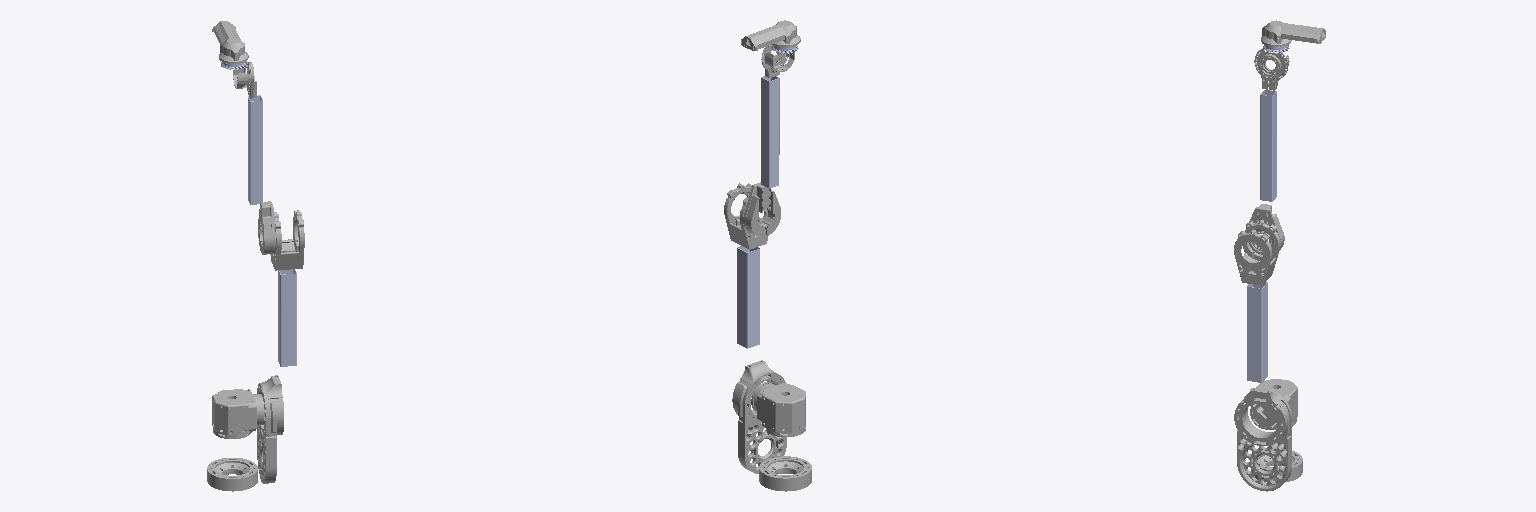
robot.urdf — dexter:
<robot name="dexter">

<link name="kp0093_1" />

<link name="kp0093_1_185_kp0005-01_botbasestatorbracket">
    <visual>
        <geometry>
            <mesh filename="package://dexter/urdf/kp0005-01_botbasestatorbracket.stl" />
        </geometry>
        <material name="kp0093_1_185_kp0005-01_botbasestatorbracket_material">
            <color rgba="0.745098 0.745098 0.745098 1.0" />
        </material>
    </visual>
    <collision>
        <geometry>
            <mesh filename="package://dexter/urdf/kp0005-01_botbasestatorbracket.stl" />
        </geometry>
        <material name="kp0093_1_185_kp0005-01_botbasestatorbracket_material">
            <color rgba="0.745098 0.745098 0.745098 1.0" />
        </material>
    </collision>
</link>

<joint name="kp0093_1_kp0093_1_185_kp0005-01_botbasestatorbracket_fixing" type="fixed">
    <origin xyz="1.03585e-17 -4.1956e-32 0.0557" rpy="1.5708 2.90566e-17 -2.0944" />
    <parent link="kp0093_1" />
    <child link="kp0093_1_185_kp0005-01_botbasestatorbracket" />
</joint>


<link name="kp0093_1_24_kp0006-01_baselite">
    <visual>
        <geometry>
            <mesh filename="package://dexter/urdf/kp0006-01_baselite.stl" />
        </geometry>
        <material name="kp0093_1_24_kp0006-01_baselite_material">
            <color rgba="0.745098 0.745098 0.745098 1.0" />
        </material>
    </visual>
    <collision>
        <geometry>
            <mesh filename="package://dexter/urdf/kp0006-01_baselite.stl" />
        </geometry>
        <material name="kp0093_1_24_kp0006-01_baselite_material">
            <color rgba="0.745098 0.745098 0.745098 1.0" />
        </material>
    </collision>
</link>

<joint name="kp0093_1_kp0093_1_24_kp0006-01_baselite_fixing" type="fixed">
    <origin xyz="0.0 0.0 0.0" rpy="0.0 1.047 -3.142" />
    <parent link="kp0093_1_185_kp0005-01_botbasestatorbracket" />
    <child link="kp0093_1_24_kp0006-01_baselite" />
</joint>


<link name="kp0093_1_33_kp0021-01_motorendcappivot">
    <visual>
        <geometry>
            <mesh filename="package://dexter/urdf/kp0021-01_motorendcappivot.stl" />
        </geometry>
        <material name="kp0093_1_33_kp0021-01_motorendcappivot_material">
            <color rgba="0.745098 0.745098 0.745098 1.0" />
        </material>
    </visual>
    <collision>
        <geometry>
            <mesh filename="package://dexter/urdf/kp0021-01_motorendcappivot.stl" />
        </geometry>
        <material name="kp0093_1_33_kp0021-01_motorendcappivot_material">
            <color rgba="0.745098 0.745098 0.745098 1.0" />
        </material>
    </collision>
</link>

<joint name="kp0093_1_kp0093_1_33_kp0021-01_motorendcappivot_fixing" type="fixed">
    <origin xyz="0.0 -0.059 0.0" rpy="0.0 0.350 0.0" />
    <parent link="kp0093_1_24_kp0006-01_baselite" />
    <child link="kp0093_1_33_kp0021-01_motorendcappivot" />
</joint>


<link name="kp0093_1_183_kp0013-01_mainpivotv2">
    <visual>
        <geometry>
            <mesh filename="package://dexter/urdf/kp0013-01_mainpivotv2.stl" />
        </geometry>
        <material name="kp0093_1_183_kp0013-01_mainpivotv2_material">
            <color rgba="0.745098 0.745098 0.745098 1.0" />
        </material>
    </visual>
    <collision>
        <geometry>
            <mesh filename="package://dexter/urdf/kp0013-01_mainpivotv2.stl" />
        </geometry>
        <material name="kp0093_1_183_kp0013-01_mainpivotv2_material">
            <color rgba="0.745098 0.745098 0.745098 1.0" />
        </material>
    </collision>
</link>

<joint name="J1" type="revolute">
    <origin xyz="0.0 -0.008 0.0" rpy="0.0 0.0 0.0" />
    <parent link="kp0093_1_33_kp0021-01_motorendcappivot" />
    <child link="kp0093_1_183_kp0013-01_mainpivotv2" />
    <limit lower="-1.571" upper="1.571" effort="100" velocity="100" />
    <axis xyz="0 1 0" />
</joint>


<link name="kp0093_1_230_kp0028-01_armbodybottom">
    <visual>
        <geometry>
            <mesh filename="package://dexter/urdf/kp0028-01_armbodybottom.stl" />
        </geometry>
        <material name="kp0093_1_230_kp0028-01_armbodybottom_material">
            <color rgba="0.745098 0.745098 0.745098 1.0" />
        </material>
    </visual>
    <collision>
        <geometry>
            <mesh filename="package://dexter/urdf/kp0028-01_armbodybottom.stl" />
        </geometry>
        <material name="kp0093_1_230_kp0028-01_armbodybottom_material">
            <color rgba="0.745098 0.745098 0.745098 1.0" />
        </material>
    </collision>
</link>

<joint name="J2" type="revolute">
    <origin xyz="0.057 -0.037 0.0" rpy="0.0 0.0 1.571" />
    <parent link="kp0093_1_183_kp0013-01_mainpivotv2" />
    <child link="kp0093_1_230_kp0028-01_armbodybottom" />
    <limit lower="-2.355" upper="2.355" effort="100" velocity="100" />
    <axis xyz="0 1 0" />
</joint>


<link name="kp0093_1_301_kp0053-01_compositebarshoulder">
    <visual>
        <geometry>
            <mesh filename="package://dexter/urdf/kp0053-01_compositebarshoulder.stl" />
        </geometry>
        <material name="kp0093_1_301_kp0053-01_compositebarshoulder_material">
            <color rgba="0.792157 0.819608 0.933333 1.0" />
        </material>
    </visual>
    <collision>
        <geometry>
            <mesh filename="package://dexter/urdf/kp0053-01_compositebarshoulder.stl" />
        </geometry>
        <material name="kp0093_1_301_kp0053-01_compositebarshoulder_material">
            <color rgba="0.792157 0.819608 0.933333 1.0" />
        </material>
    </collision>
</link>

<joint name="kp0093_1_kp0093_1_301_kp0053-01_compositebarshoulder_fixing" type="fixed">
    <origin xyz="-0.168 -0.036 0.0" rpy="0.0 0.0 -3.142" />
    <parent link="kp0093_1_230_kp0028-01_armbodybottom" />
    <child link="kp0093_1_301_kp0053-01_compositebarshoulder" />
</joint>


<link name="kp0093_1_48_kp0048-01_axisintersectionhalfsm_b">
    <visual>
        <geometry>
            <mesh filename="package://dexter/urdf/kp0048-01_axisintersectionhalfsm_b.stl" />
        </geometry>
        <material name="kp0093_1_48_kp0048-01_axisintersectionhalfsm_b_material">
            <color rgba="0.745098 0.745098 0.745098 1.0" />
        </material>
    </visual>
    <collision>
        <geometry>
            <mesh filename="package://dexter/urdf/kp0048-01_axisintersectionhalfsm_b.stl" />
        </geometry>
        <material name="kp0093_1_48_kp0048-01_axisintersectionhalfsm_b_material">
            <color rgba="0.745098 0.745098 0.745098 1.0" />
        </material>
    </collision>
</link>

<joint name="kp0093_1_kp0093_1_48_kp0048-01_axisintersectionhalfsm_b_fixing" type="fixed">
    <origin xyz="0.153 0.022 0.0" rpy="0.0 0.0 0.0" />
    <parent link="kp0093_1_301_kp0053-01_compositebarshoulder" />
    <child link="kp0093_1_48_kp0048-01_axisintersectionhalfsm_b" />
</joint>


<link name="kp0093_1_165_kp0047-01_axisintersectionhalfsm">
    <visual>
        <geometry>
            <mesh filename="package://dexter/urdf/kp0047-01_axisintersectionhalfsm.stl" />
        </geometry>
        <material name="kp0093_1_165_kp0047-01_axisintersectionhalfsm_material">
            <color rgba="0.745098 0.745098 0.745098 1.0" />
        </material>
    </visual>
    <collision>
        <geometry>
            <mesh filename="package://dexter/urdf/kp0047-01_axisintersectionhalfsm.stl" />
        </geometry>
        <material name="kp0093_1_165_kp0047-01_axisintersectionhalfsm_material">
            <color rgba="0.745098 0.745098 0.745098 1.0" />
        </material>
    </collision>
</link>

<joint name="kp0093_1_kp0093_1_165_kp0047-01_axisintersectionhalfsm_fixing" type="fixed">
    <origin xyz="0.0 0.0 0.0" rpy="0.0 0.0 0.0" />
    <parent link="kp0093_1_48_kp0048-01_axisintersectionhalfsm_b" />
    <child link="kp0093_1_165_kp0047-01_axisintersectionhalfsm" />
</joint>


<link name="kp0093_1_237_kp0066-01_endarmhubbottom">
    <visual>
        <geometry>
            <mesh filename="package://dexter/urdf/kp0066-01_endarmhubbottom.stl" />
        </geometry>
        <material name="kp0093_1_237_kp0066-01_endarmhubbottom_material">
            <color rgba="0.745098 0.745098 0.745098 1.0" />
        </material>
    </visual>
    <collision>
        <geometry>
            <mesh filename="package://dexter/urdf/kp0066-01_endarmhubbottom.stl" />
        </geometry>
        <material name="kp0093_1_237_kp0066-01_endarmhubbottom_material">
            <color rgba="0.745098 0.745098 0.745098 1.0" />
        </material>
    </collision>
</link>

<joint name="J3" type="revolute">
    <origin xyz="0.0 -0.051 0.0" rpy="0.0 3.142 -3.142" />
    <parent link="kp0093_1_48_kp0048-01_axisintersectionhalfsm_b" />
    <child link="kp0093_1_237_kp0066-01_endarmhubbottom" />
    <limit lower="-2.355" upper="2.355" effort="100" velocity="100" />
    <axis xyz="0 1 0" />
</joint>


<link name="kp0093_1_135_kp0069-01_forarmbeam">
    <visual>
        <geometry>
            <mesh filename="package://dexter/urdf/kp0069-01_forarmbeam.stl" />
        </geometry>
        <material name="kp0093_1_135_kp0069-01_forarmbeam_material">
            <color rgba="0.792157 0.819608 0.933333 1.0" />
        </material>
    </visual>
    <collision>
        <geometry>
            <mesh filename="package://dexter/urdf/kp0069-01_forarmbeam.stl" />
        </geometry>
        <material name="kp0093_1_135_kp0069-01_forarmbeam_material">
            <color rgba="0.792157 0.819608 0.933333 1.0" />
        </material>
    </collision>
</link>

<joint name="kp0093_1_kp0093_1_135_kp0069-01_forarmbeam_fixing" type="fixed">
    <origin xyz="0.159 0.025 0.0" rpy="0 0 0" />
    <parent link="kp0093_1_237_kp0066-01_endarmhubbottom" />
    <child link="kp0093_1_135_kp0069-01_forarmbeam" />
</joint>


<link name="kp0093_1_2_kp0070-01_endaxishubc">
    <visual>
        <geometry>
            <mesh filename="package://dexter/urdf/kp0070-01_endaxishubc.stl" />
        </geometry>
        <material name="kp0093_1_2_kp0070-01_endaxishubc_material">
            <color rgba="0.745098 0.745098 0.745098 1.0" />
        </material>
    </visual>
    <collision>
        <geometry>
            <mesh filename="package://dexter/urdf/kp0070-01_endaxishubc.stl" />
        </geometry>
        <material name="kp0093_1_2_kp0070-01_endaxishubc_material">
            <color rgba="0.745098 0.745098 0.745098 1.0" />
        </material>
    </collision>
</link>

<joint name="kp0093_1_kp0093_1_2_kp0070-01_endaxishubc_fixing" type="fixed">
    <origin xyz="0.142 -0.011 0.0" rpy="-3.142 0.0 0.0" />
    <parent link="kp0093_1_135_kp0069-01_forarmbeam" />
    <child link="kp0093_1_2_kp0070-01_endaxishubc" />
</joint>


<link name="kp0093_1_322_kp0079-01_diffa2codediskendstopfilled">
    <visual>
        <geometry>
            <mesh filename="package://dexter/urdf/kp0079-01_diffa2codediskendstopfilled.stl" />
        </geometry>
        <material name="kp0093_1_322_kp0079-01_diffa2codediskendstopfilled_material">
            <color rgba="0.74902 0.74902 0.74902 1.0" />
        </material>
    </visual>
    <collision>
        <geometry>
            <mesh filename="package://dexter/urdf/kp0079-01_diffa2codediskendstopfilled.stl" />
        </geometry>
        <material name="kp0093_1_322_kp0079-01_diffa2codediskendstopfilled_material">
            <color rgba="0.74902 0.74902 0.74902 1.0" />
        </material>
    </collision>
</link>

<joint name="J4" type="revolute">
    <origin xyz="0.0 -0.024 0.0" rpy="0.0 0.0 0.0" />
    <parent link="kp0093_1_2_kp0070-01_endaxishubc" />
    <child link="kp0093_1_322_kp0079-01_diffa2codediskendstopfilled" />
    <limit lower="-1.571" upper="1.571" effort="100" velocity="100" />
    <axis xyz="0 -1 0" />
</joint>


<link name="kp0093_1_12_kp0077-01_diffbodysmallb">
    <visual>
        <geometry>
            <mesh filename="package://dexter/urdf/kp0077-01_diffbodysmallb.stl" />
        </geometry>
        <material name="kp0093_1_12_kp0077-01_diffbodysmallb_material">
            <color rgba="0.745098 0.745098 0.745098 1.0" />
        </material>
    </visual>
    <collision>
        <geometry>
            <mesh filename="package://dexter/urdf/kp0077-01_diffbodysmallb.stl" />
        </geometry>
        <material name="kp0093_1_12_kp0077-01_diffbodysmallb_material">
            <color rgba="0.745098 0.745098 0.745098 1.0" />
        </material>
    </collision>
</link>

<joint name="kp0093_1_kp0093_1_12_kp0077-01_diffbodysmallb_fixing" type="fixed">
    <origin xyz="-0.021 -0.003 -0.021" rpy="-3.142 0.0 -1.571" />
    <parent link="kp0093_1_322_kp0079-01_diffa2codediskendstopfilled" />
    <child link="kp0093_1_12_kp0077-01_diffbodysmallb" />
</joint>


<link name="kp0093_1_87_kp0086-01_outterfrontdifferentialgear">
    <visual>
        <geometry>
            <mesh filename="package://dexter/urdf/kp0086-01_outterfrontdifferentialgear.stl" />
        </geometry>
        <material name="kp0093_1_87_kp0086-01_outterfrontdifferentialgear_material">
            <color rgba="0.792157 0.819608 0.933333 1.0" />
        </material>
    </visual>
    <collision>
        <geometry>
            <mesh filename="package://dexter/urdf/kp0086-01_outterfrontdifferentialgear.stl" />
        </geometry>
        <material name="kp0093_1_87_kp0086-01_outterfrontdifferentialgear_material">
            <color rgba="0.792157 0.819608 0.933333 1.0" />
        </material>
    </collision>
</link>

<joint name="J5" type="revolute">
    <origin xyz="0.021 -0.021 -0.021" rpy="0.206 -1.571 2.936" />
    <parent link="kp0093_1_12_kp0077-01_diffbodysmallb" />
    <child link="kp0093_1_87_kp0086-01_outterfrontdifferentialgear" />
    <limit lower="-3.14" upper="3.14" effort="100" velocity="100" />
    <axis xyz="0 -1 0" />
</joint>


<link name="kp0093_1_186_kp0093-01_toolinterface">
    <visual>
        <geometry>
            <mesh filename="package://dexter/urdf/kp0093-01_toolinterface.stl" />
        </geometry>
        <material name="kp0093_1_186_kp0093-01_toolinterface_material">
            <color rgba="0.745098 0.745098 0.745098 1.0" />
        </material>
    </visual>
    <collision>
        <geometry>
            <mesh filename="package://dexter/urdf/kp0093-01_toolinterface.stl" />
        </geometry>
        <material name="kp0093_1_186_kp0093-01_toolinterface_material">
            <color rgba="0.745098 0.745098 0.745098 1.0" />
        </material>
    </collision>
</link>

<joint name="kp0093_1_kp0093_1_186_kp0093-01_toolinterface_fixing" type="fixed">
    <origin xyz="0.0 0.043 0.0" rpy="-3.142 0.031 0.0" />
    <parent link="kp0093_1_87_kp0086-01_outterfrontdifferentialgear" />
    <child link="kp0093_1_186_kp0093-01_toolinterface" />
</joint>

</robot>

--- Render facts (derived) ---
3 views of the same robot in one strip: view 1: azimuth 30°, elevation 25°; view 2: azimuth 150°, elevation 25°; view 3: azimuth 270°, elevation 25° (orthographic).
Model dexter with 16 links and 15 joints (5 revolute, 10 fixed), rooted at kp0093_1, posed all joints at 0.
Visible links, largest first — view 1: kp0093_1_183_kp0013-01_mainpivotv2, kp0093_1_230_kp0028-01_armbodybottom, kp0093_1_301_kp0053-01_compositebarshoulder, kp0093_1_135_kp0069-01_forarmbeam, kp0093_1_185_kp0005-01_botbasestatorbracket, kp0093_1_186_kp0093-01_toolinterface, kp0093_1_237_kp0066-01_endarmhubbottom, kp0093_1_165_kp0047-01_axisintersectionhalfsm, kp0093_1_48_kp0048-01_axisintersectionhalfsm_b; view 2: kp0093_1_230_kp0028-01_armbodybottom, kp0093_1_183_kp0013-01_mainpivotv2, kp0093_1_301_kp0053-01_compositebarshoulder, kp0093_1_135_kp0069-01_forarmbeam, kp0093_1_185_kp0005-01_botbasestatorbracket, kp0093_1_237_kp0066-01_endarmhubbottom, kp0093_1_186_kp0093-01_toolinterface, kp0093_1_165_kp0047-01_axisintersectionhalfsm, kp0093_1_48_kp0048-01_axisintersectionhalfsm_b; view 3: kp0093_1_230_kp0028-01_armbodybottom, kp0093_1_301_kp0053-01_compositebarshoulder, kp0093_1_135_kp0069-01_forarmbeam, kp0093_1_165_kp0047-01_axisintersectionhalfsm, kp0093_1_183_kp0013-01_mainpivotv2, kp0093_1_186_kp0093-01_toolinterface, kp0093_1_48_kp0048-01_axisintersectionhalfsm_b, kp0093_1_237_kp0066-01_endarmhubbottom, kp0093_1_185_kp0005-01_botbasestatorbracket, kp0093_1_2_kp0070-01_endaxishubc.
Boxes of the visible links, <box> form: kp0093_1_183_kp0013-01_mainpivotv2: <box>212,389,264,438</box>; kp0093_1_230_kp0028-01_armbodybottom: <box>257,375,283,483</box>; kp0093_1_301_kp0053-01_compositebarshoulder: <box>278,269,296,366</box>; kp0093_1_135_kp0069-01_forarmbeam: <box>248,95,262,204</box>; kp0093_1_185_kp0005-01_botbasestatorbracket: <box>207,458,257,491</box>; kp0093_1_186_kp0093-01_toolinterface: <box>212,21,248,63</box>; kp0093_1_237_kp0066-01_endarmhubbottom: <box>258,201,275,254</box>; kp0093_1_165_kp0047-01_axisintersectionhalfsm: <box>285,210,304,269</box>; kp0093_1_48_kp0048-01_axisintersectionhalfsm_b: <box>271,212,289,270</box>; kp0093_1_230_kp0028-01_armbodybottom: <box>732,360,786,473</box>; kp0093_1_183_kp0013-01_mainpivotv2: <box>751,382,805,436</box>; kp0093_1_301_kp0053-01_compositebarshoulder: <box>737,246,759,348</box>; kp0093_1_135_kp0069-01_forarmbeam: <box>761,76,779,188</box>; kp0093_1_185_kp0005-01_botbasestatorbracket: <box>759,456,811,491</box>; kp0093_1_237_kp0066-01_endarmhubbottom: <box>743,182,780,236</box>; kp0093_1_186_kp0093-01_toolinterface: <box>741,20,800,50</box>; kp0093_1_165_kp0047-01_axisintersectionhalfsm: <box>724,183,759,244</box>; kp0093_1_48_kp0048-01_axisintersectionhalfsm_b: <box>736,197,767,249</box>; kp0093_1_230_kp0028-01_armbodybottom: <box>1234,388,1291,491</box>; kp0093_1_301_kp0053-01_compositebarshoulder: <box>1247,282,1267,382</box>; kp0093_1_135_kp0069-01_forarmbeam: <box>1260,90,1276,201</box>; kp0093_1_165_kp0047-01_axisintersectionhalfsm: <box>1234,229,1272,285</box>; kp0093_1_183_kp0013-01_mainpivotv2: <box>1250,379,1297,429</box>; kp0093_1_186_kp0093-01_toolinterface: <box>1261,20,1325,46</box>; kp0093_1_48_kp0048-01_axisintersectionhalfsm_b: <box>1243,220,1280,278</box>; kp0093_1_237_kp0066-01_endarmhubbottom: <box>1246,204,1284,251</box>; kp0093_1_185_kp0005-01_botbasestatorbracket: <box>1251,449,1302,481</box>; kp0093_1_2_kp0070-01_endaxishubc: <box>1259,54,1281,90</box>.
Bounding box of the posed robot: 0.1632 × 0.1517 × 0.8172 m (x, y, z).
Meshes: 15 distinct files referenced, 12 mesh visuals loaded (12 binary STL); not drawn: 3 (reference not matched to a file when rendering).
